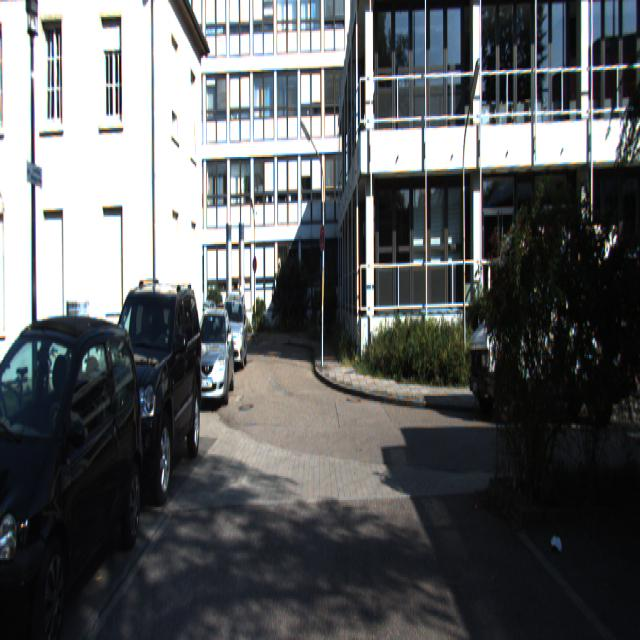Car: (0, 317, 146, 639), (466, 215, 628, 422), (82, 273, 205, 522), (188, 306, 237, 409), (218, 288, 250, 366)
